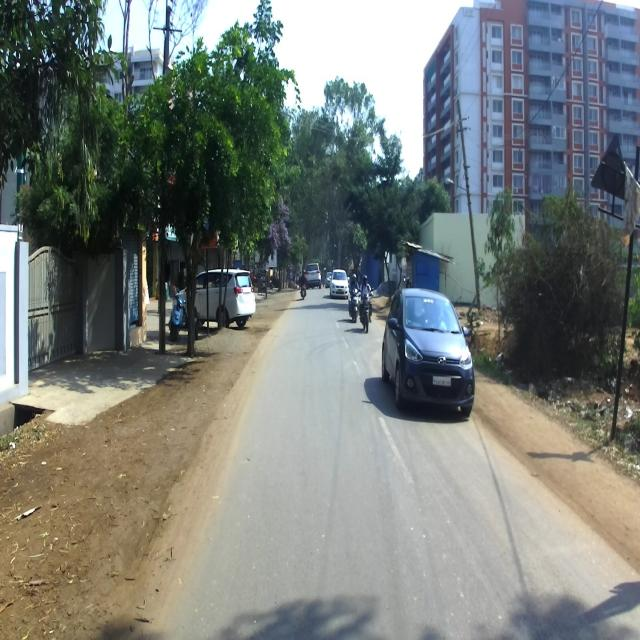Car_Hyundai: (381, 286, 474, 417)
Car_Maruti-Suzuki: (328, 268, 349, 299), (304, 261, 321, 289)
Car_Toyota: (172, 267, 256, 331)
motorcycle_Hero: (358, 286, 374, 333)
scooter: (169, 292, 186, 341), (348, 284, 360, 322)
